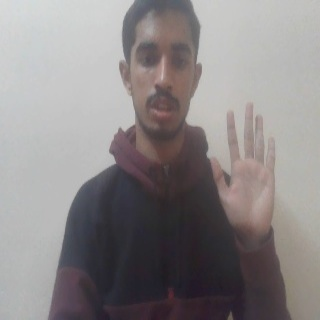Face: (117, 1, 204, 141)
Hello: (211, 101, 282, 243)
